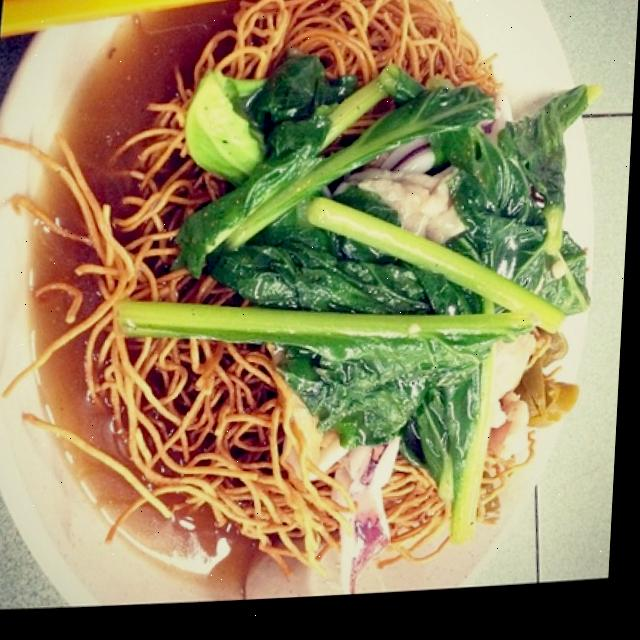面条主食: (21, 0, 606, 589)
